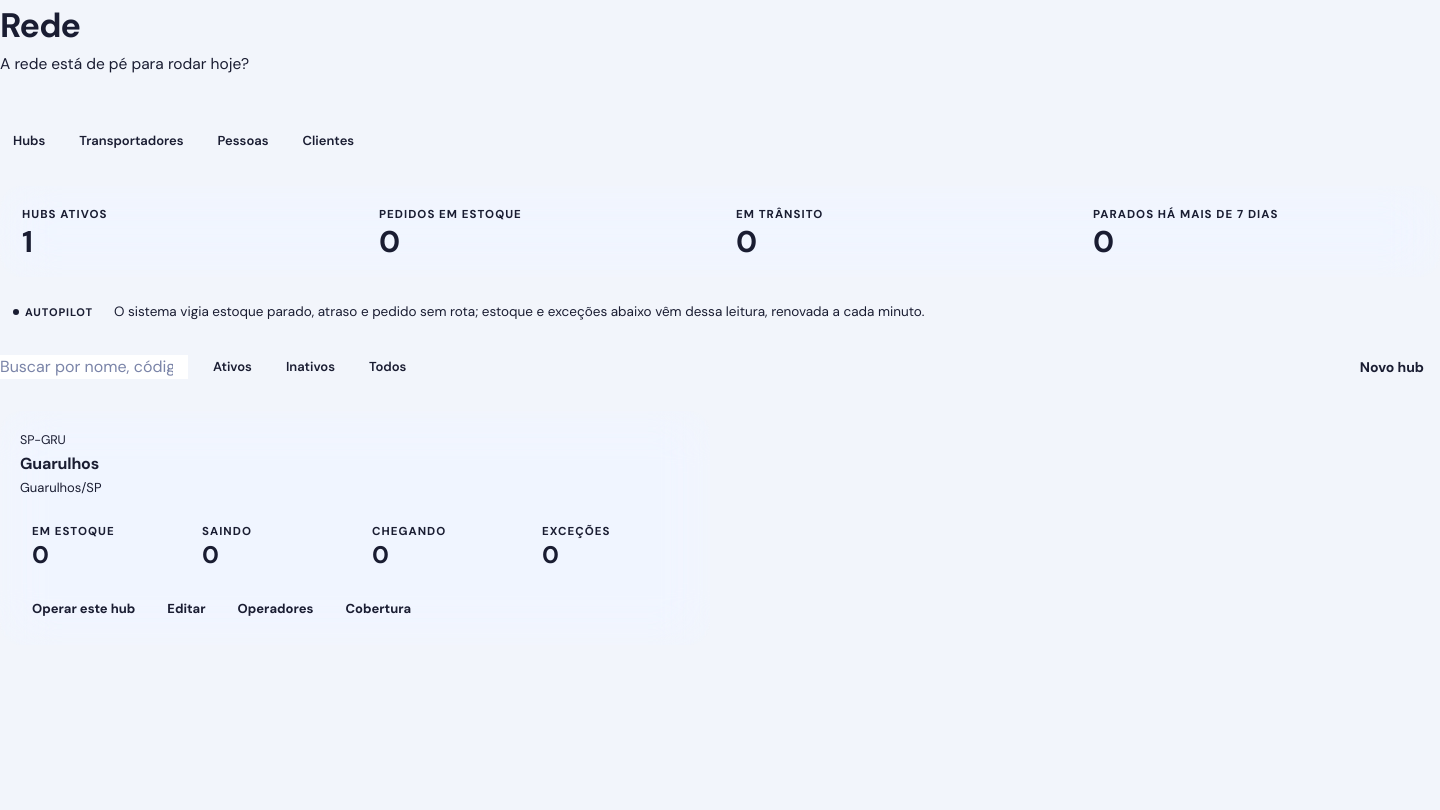
Rede: cadastros na V2 › Novo hub: valida, envia o corpo certo e renova a lista
Later steps or results of the test are not shown.
Expected: the text "SP-GRU" is shown, x1=20 y1=432 x2=66 y2=448
Click the button "Novo hub". click: (1392, 367)
box: x1=1344 y1=347 x2=1439 y2=387
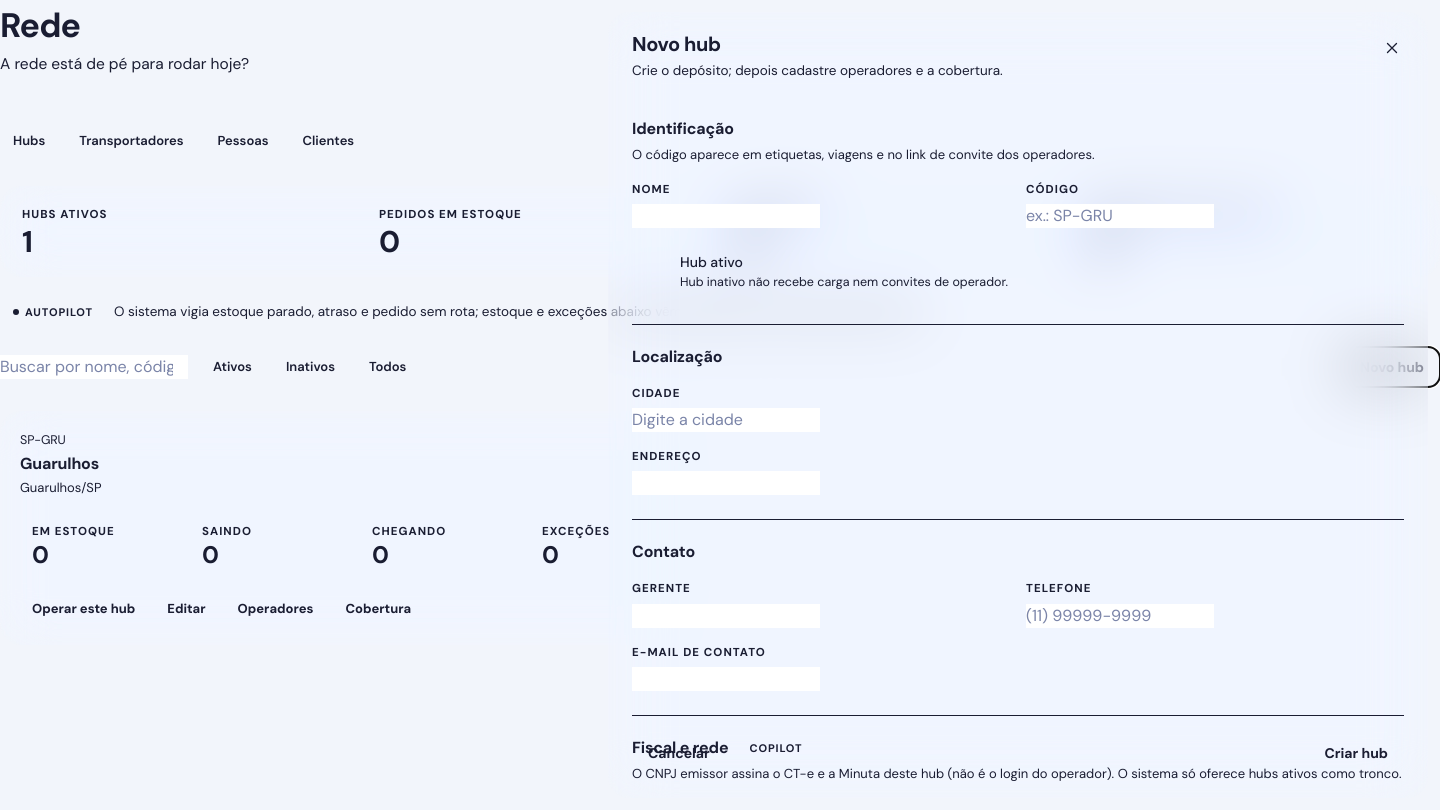
Click the button "Criar hub". click: (1356, 754)
box: x1=1308 y1=734 x2=1404 y2=774
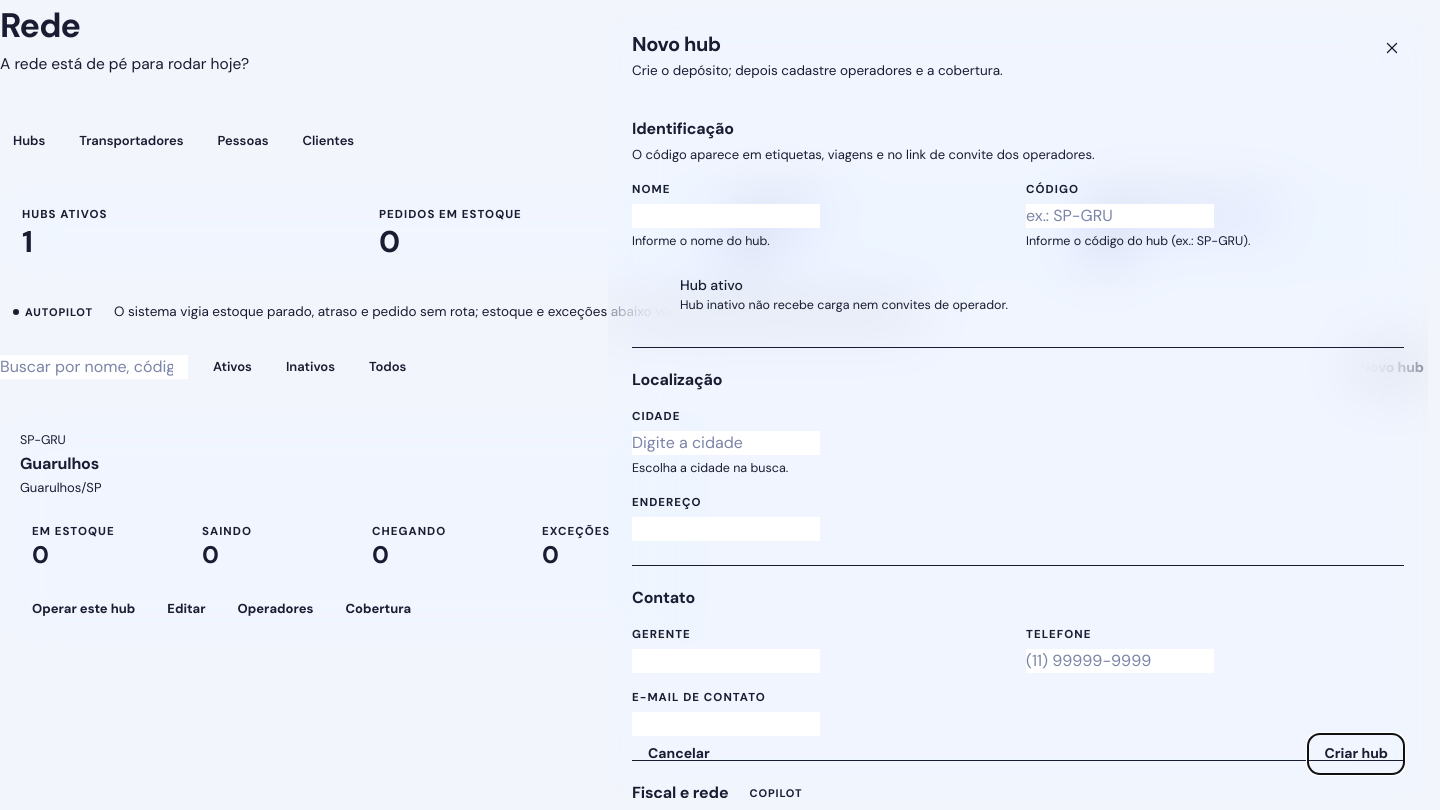
Now the text "Informe o nome do hub." is shown, box x1=632 y1=233 x2=770 y2=249
Now the text "Informe o código do hub (ex.: SP-GRU)." is shown, box x1=1026 y1=233 x2=1250 y2=249
